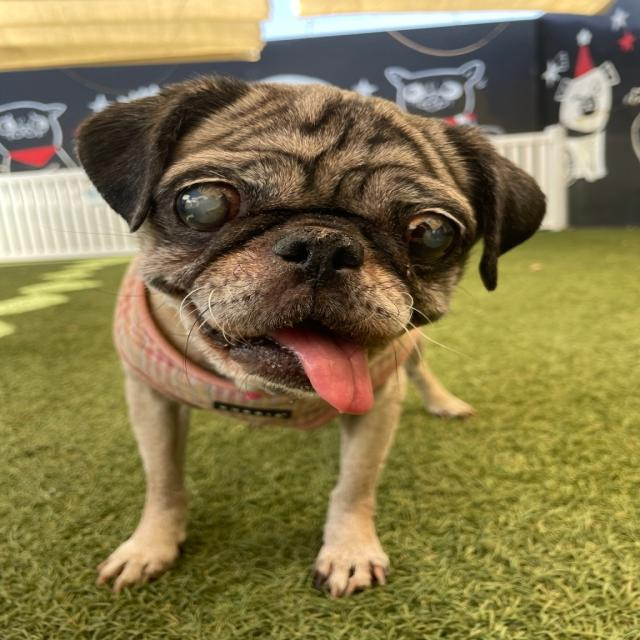pug_dog: (69, 69, 553, 422)
